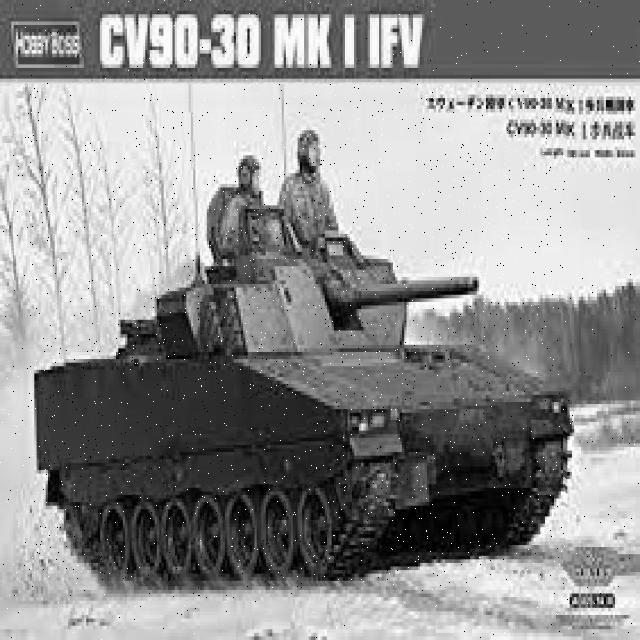MIL_MBT: (13, 84, 565, 583)
